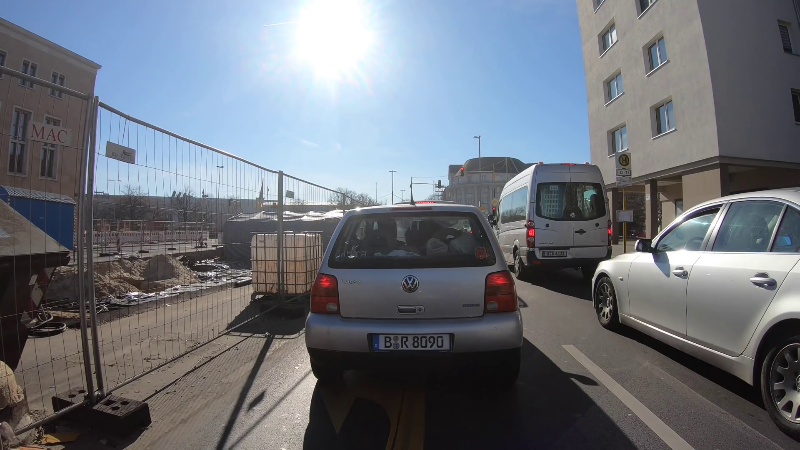Plate: (371, 334, 450, 351), (540, 250, 567, 258)
